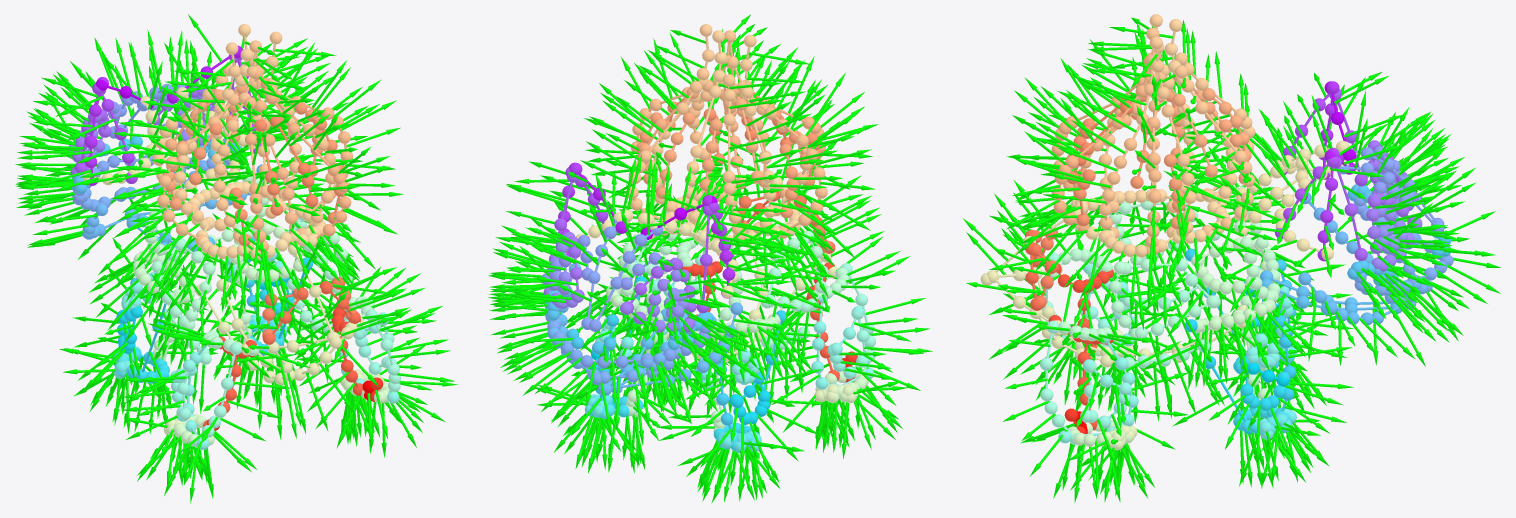
File: author1_bulbasaur.gltf
The picture shows the model from 3 angles, left to right: view 1: azimuth 30°, elevation 25°; view 2: azimuth 150°, elevation 25°; view 3: azimuth 270°, elevation 25°; orthographic projection. The views are drawn at different scales.
Bounding box in the file's own units: 0.5669 × 0.7237 × 0.8154.
